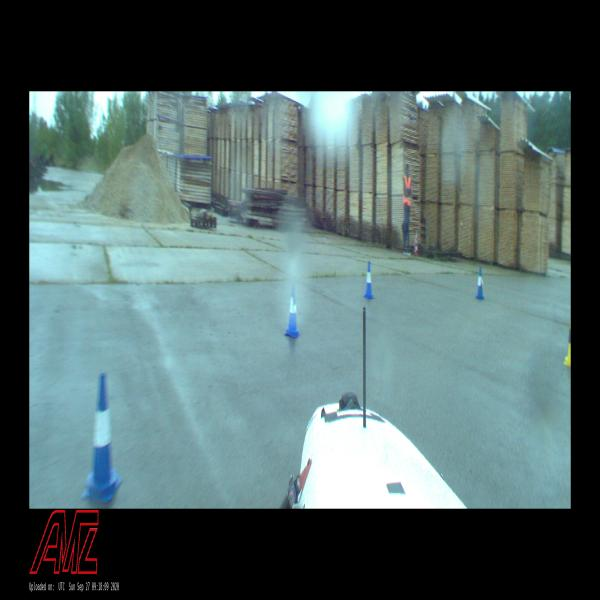blue_cone: (80, 373, 122, 503), (284, 285, 301, 337), (363, 261, 374, 299), (475, 267, 485, 299)
yellow_cone: (563, 321, 571, 366)
